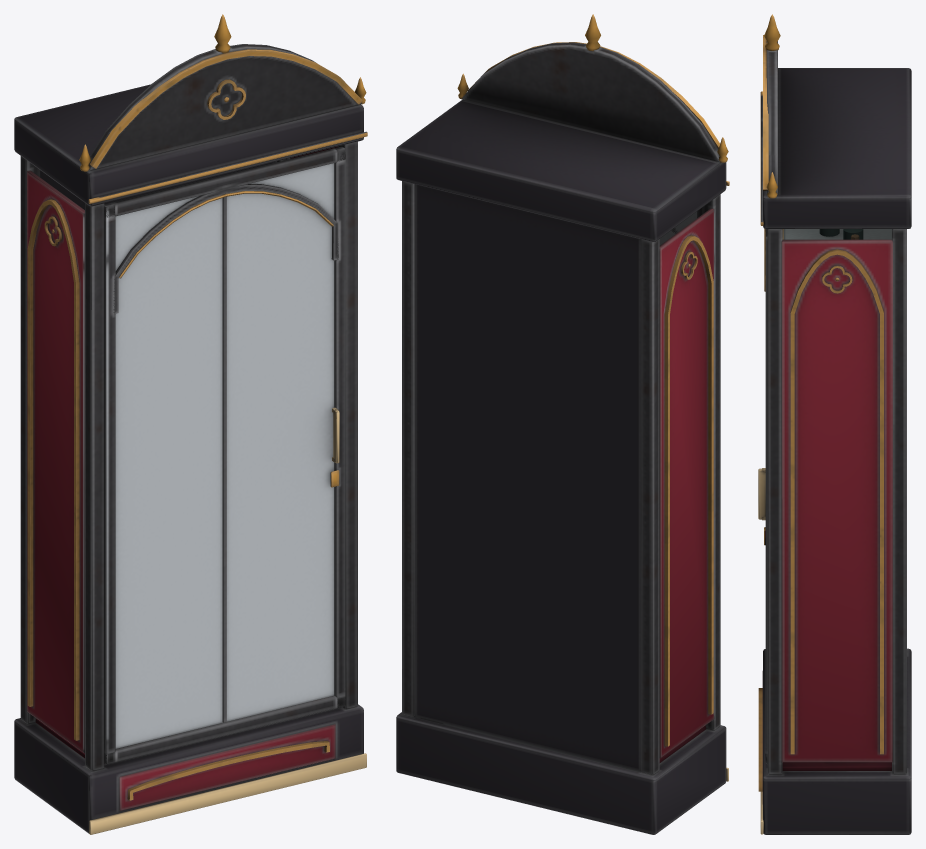
File: GlassCabinetTall.fbx
3 views of the same model, side by side, from view 1: azimuth 30°, elevation 25°; view 2: azimuth 150°, elevation 25°; view 3: azimuth 270°, elevation 25° (orthographic). The views are drawn at different scales.
Parts seen in each view (by area): view 1: GlassCabinetTall_Main, GlassCabinetTall_Glass, GlassCabinetTall_Door0; view 2: GlassCabinetTall_Main; view 3: GlassCabinetTall_Main, GlassCabinetTall_Door0.
Part boxes in pixels (bbox=[...]): GlassCabinetTall_Main: bbox=[14, 14, 367, 834]; GlassCabinetTall_Glass: bbox=[115, 163, 334, 748]; GlassCabinetTall_Door0: bbox=[104, 146, 345, 764]; GlassCabinetTall_Main: bbox=[396, 14, 729, 834]; GlassCabinetTall_Main: bbox=[758, 14, 911, 834]; GlassCabinetTall_Door0: bbox=[758, 228, 767, 764].
Size of the model in its own units: 343 by 900 by 165.
